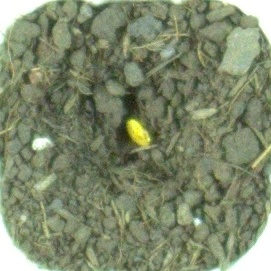chilli seed: (122, 116, 157, 150)
